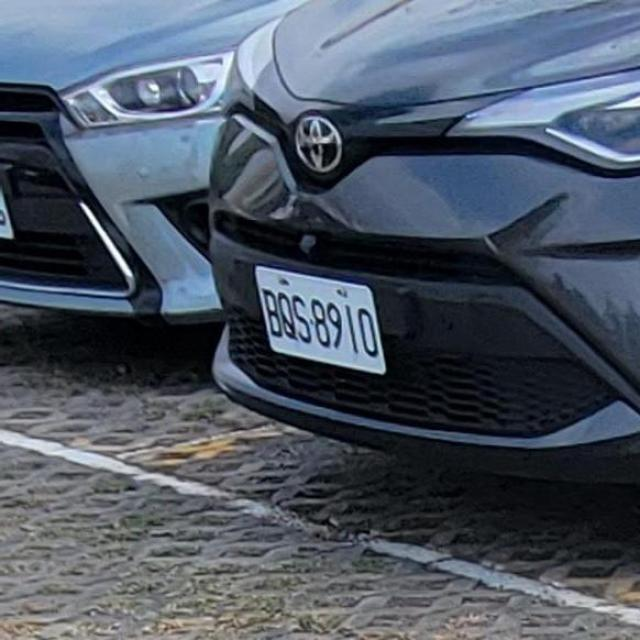W: (247, 257, 398, 388)
